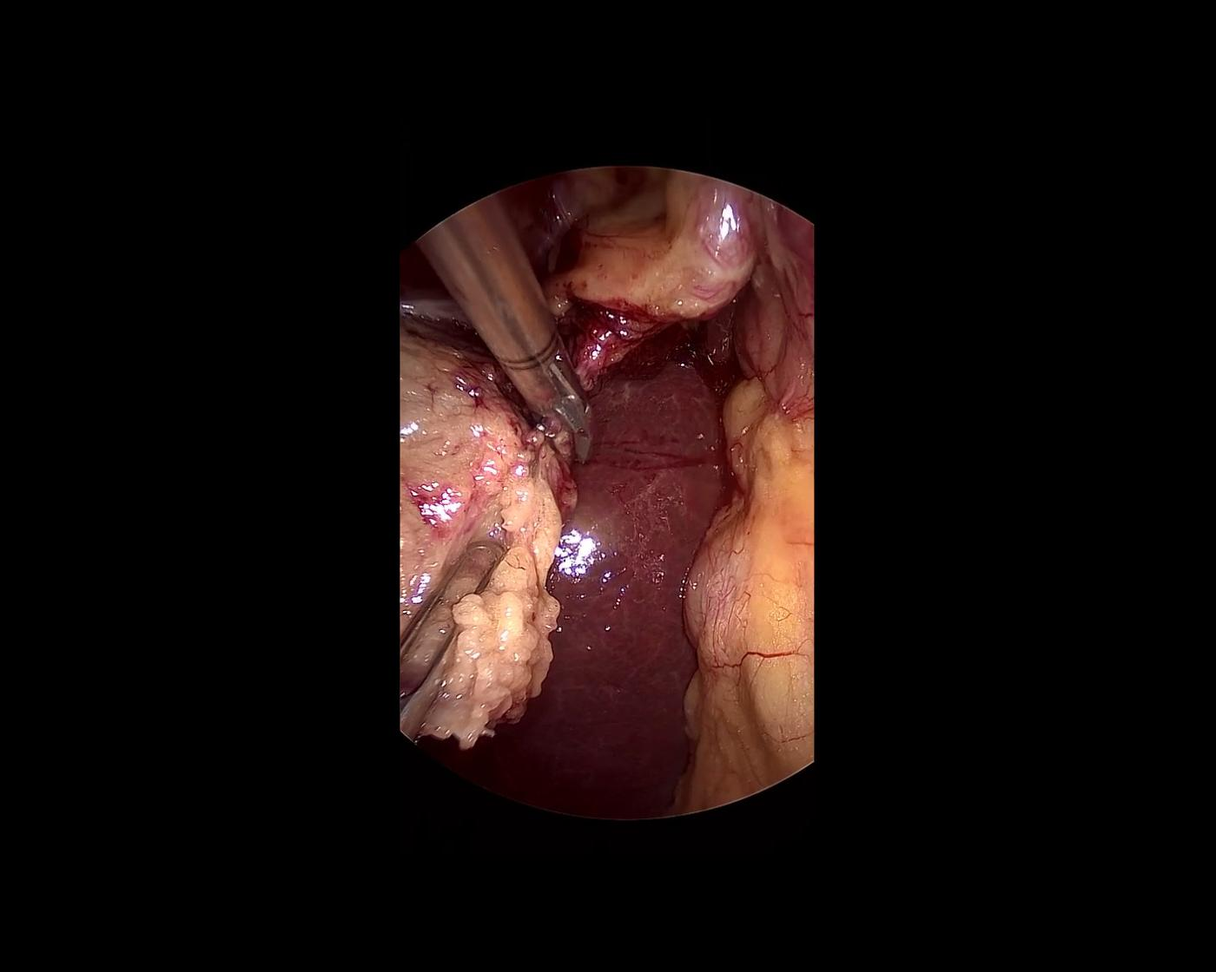Forceps: (359, 517, 519, 739)
Gallbladder: (399, 313, 565, 750)
Liver: (417, 332, 830, 853)
